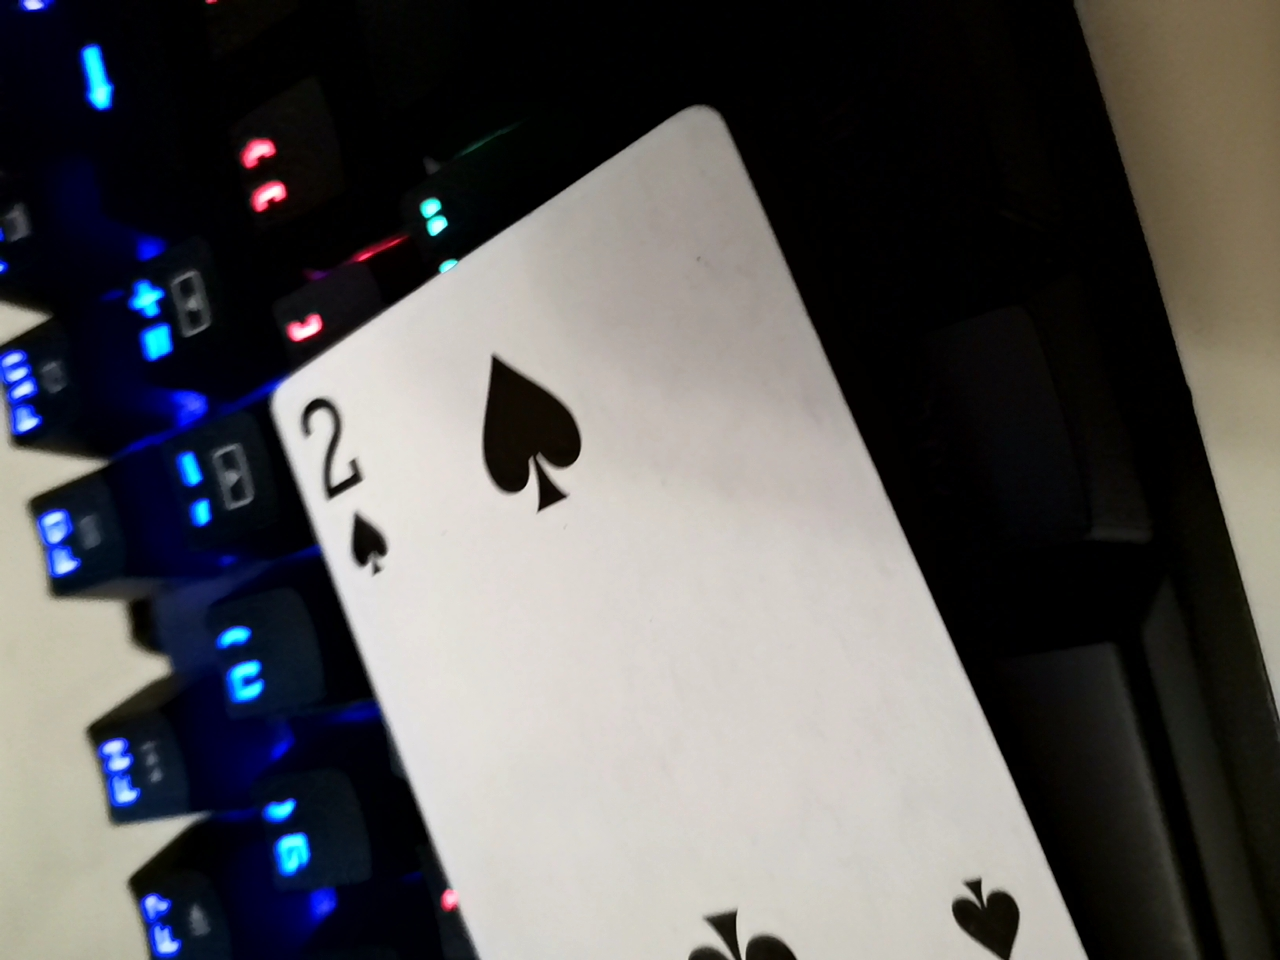ht 2: (323, 35, 1118, 957)
